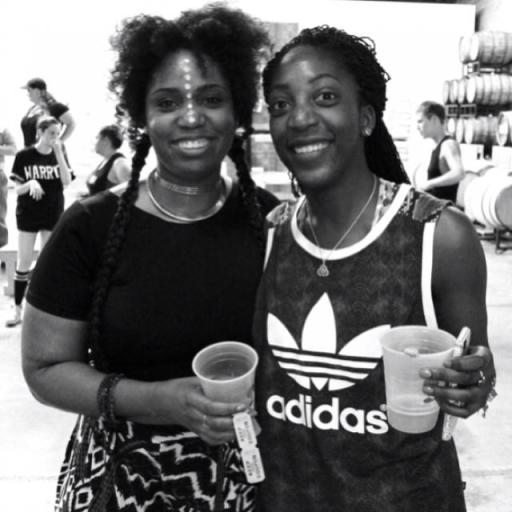Adidas: (260, 292, 394, 438)
